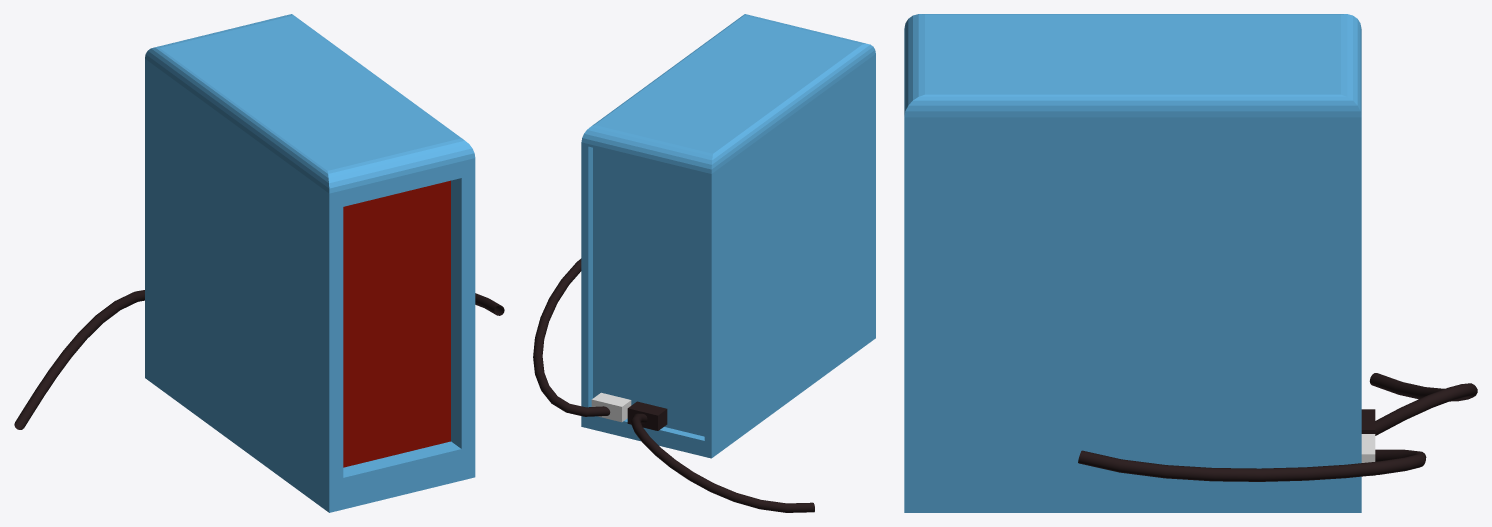
The picture shows the model from 3 angles, left to right: view 1: azimuth 30°, elevation 25°; view 2: azimuth 150°, elevation 25°; view 3: azimuth 270°, elevation 25°; orthographic projection. The views are drawn at different scales.
Parts seen in each view (by area): view 1: Cube.009, Cube.012, BezierCurve.001; view 2: Cube.009, BezierCurve.001, BezierCurve, Cube.011, Cube.010; view 3: Cube.009, BezierCurve, BezierCurve.001.
Part boxes in pixels (x1,y1,x2,y2): Cube.009: [145, 14, 475, 512]; Cube.012: [343, 180, 450, 467]; BezierCurve.001: [14, 290, 144, 429]; Cube.009: [581, 14, 875, 458]; BezierCurve.001: [631, 413, 814, 512]; BezierCurve: [533, 258, 610, 416]; Cube.011: [627, 401, 667, 430]; Cube.010: [591, 392, 631, 422]; Cube.009: [904, 14, 1361, 512]; BezierCurve: [1078, 449, 1426, 481]; BezierCurve.001: [1369, 373, 1477, 435].
Size of the model in its own units: 2.38 by 2.2 by 2.56.
